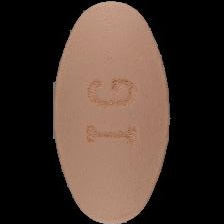52959-656: (0, 0, 224, 224)
